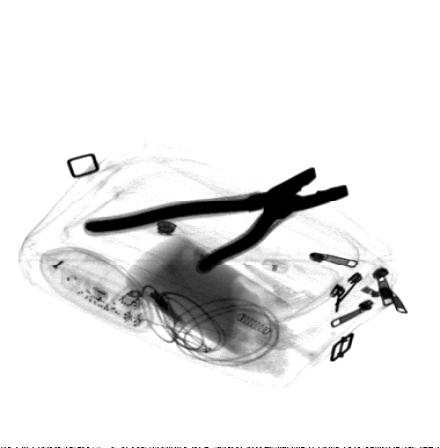Pliers: (82, 166, 351, 275)
